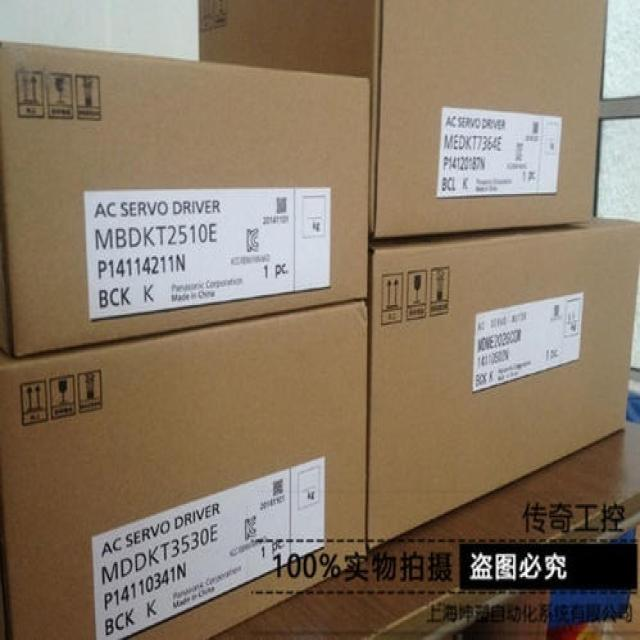box: (0, 302, 367, 638), (0, 40, 371, 360), (196, 1, 607, 235), (367, 217, 639, 556)
